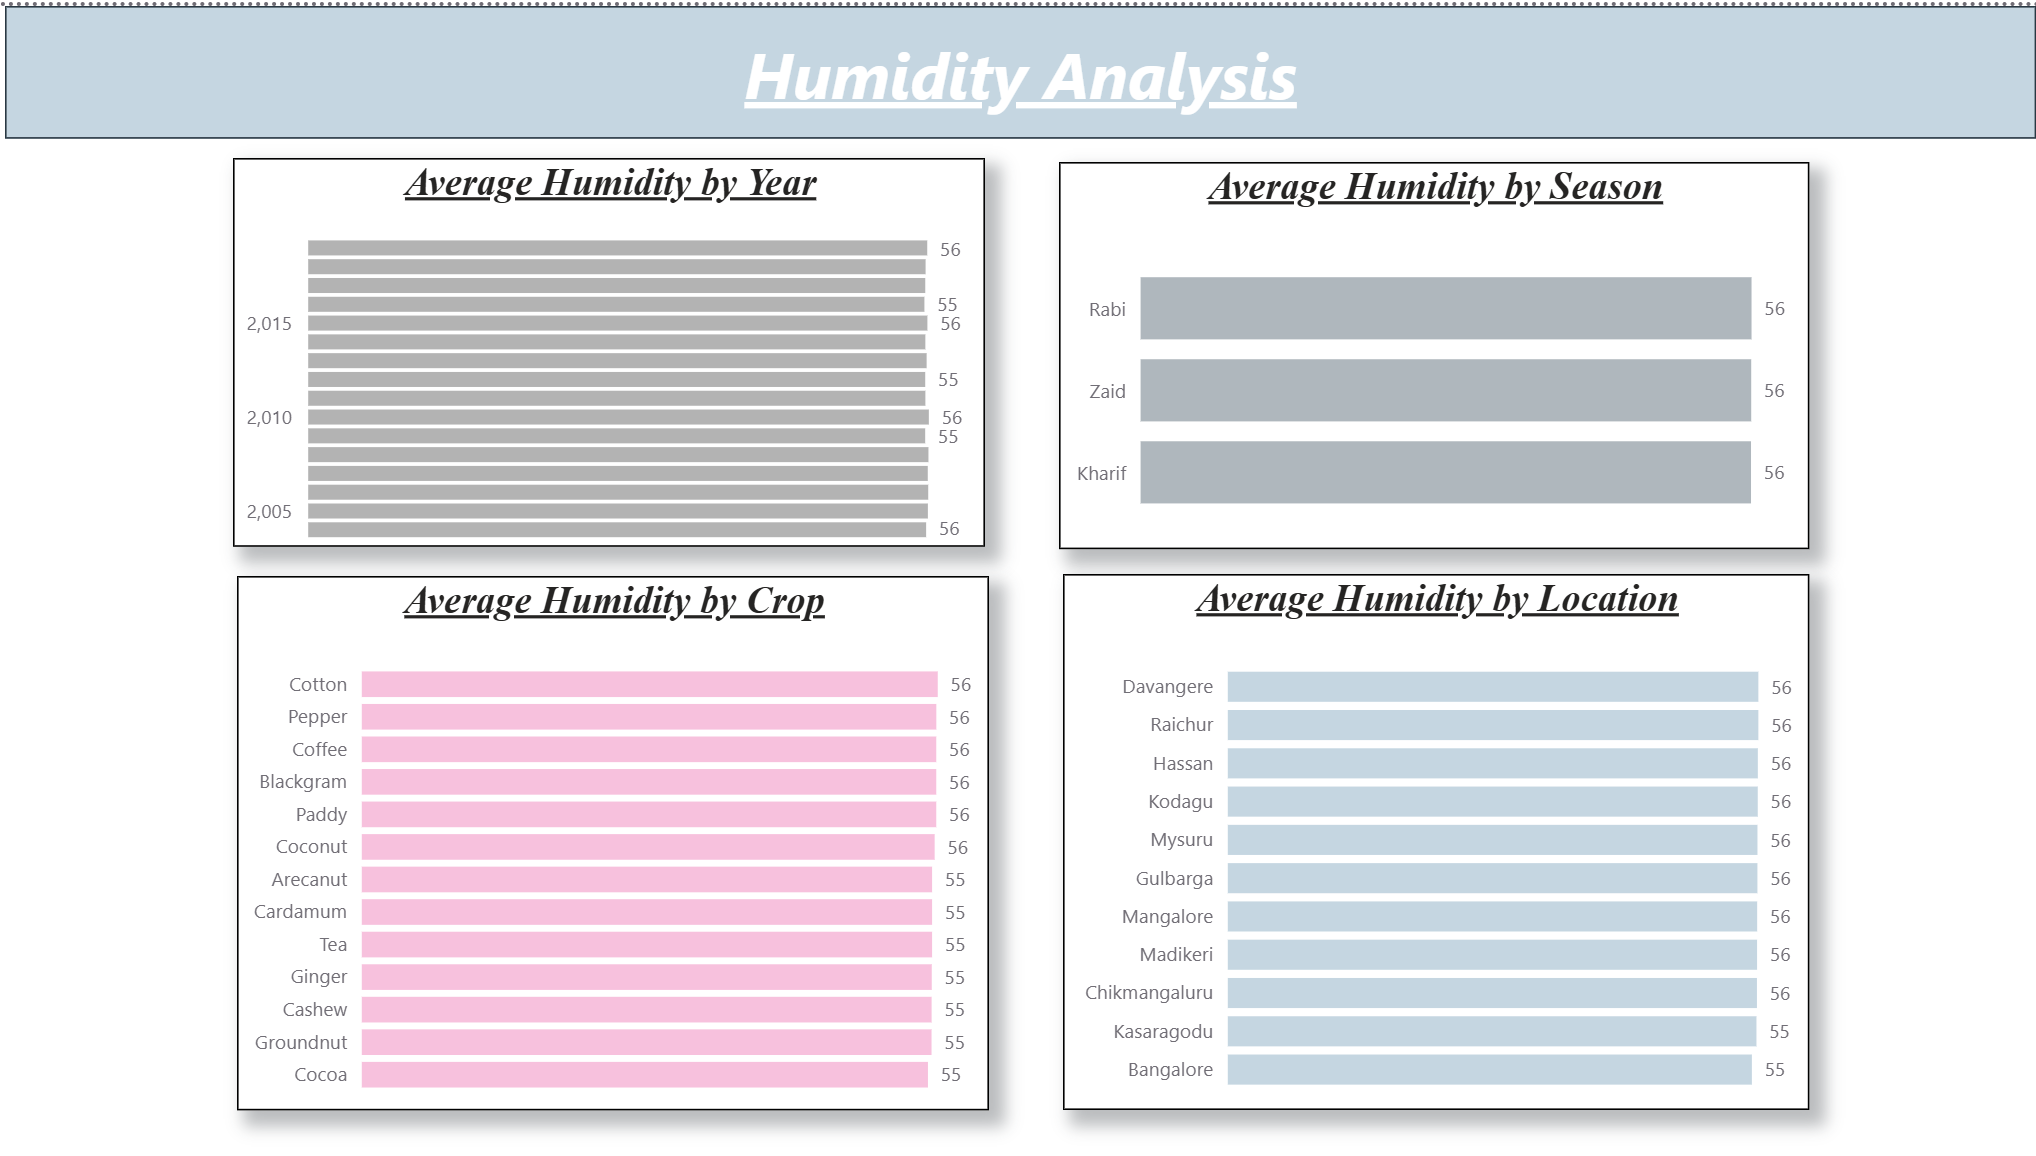

What the dashboard file says about the page in this screenshot:
{"tool":"powerbi","page":{"name":"Humidity_Analysis","canvas":[1280,720],"ordinal":2},"visuals":[{"type":"shape","box":[10.4,0,1269.5,82.9],"z":0},{"type":"barChart","title":"Average Humidity by Year","fields":{"Category":["AGRICULTURE.YEAR"],"Y":["Avg(AGRICULTURE.HUMIDITY)"]},"box":[152.5,95.6,470,243.1],"z":1000},{"type":"barChart","title":"Average Humidity by Season","fields":{"Category":["AGRICULTURE.SEASON"],"Y":["Avg(AGRICULTURE.HUMIDITY)"]},"box":[668.7,97.1,469.1,242.1],"z":2000},{"type":"barChart","title":"Average Humidity by Crop","fields":{"Category":["AGRICULTURE.CROPS"],"Y":["Avg(AGRICULTURE.HUMIDITY)"]},"box":[154.8,356,470,334.1],"z":3000},{"type":"barChart","title":"Average Humidity by Location","fields":{"Category":["AGRICULTURE.LOCATION"],"Y":["Avg(AGRICULTURE.HUMIDITY)"]},"box":[671.5,355.6,466.3,335],"z":4000}]}

Visuals, with their boxes in screenshot pixels (x1, y1, x2, y2), scaled from the page's 1280x720 canvas onto the 2036x1156 screenshot:
shape: box=[17, 0, 2035, 133]
"Average Humidity by Year" barChart: box=[243, 153, 990, 544]
"Average Humidity by Season" barChart: box=[1064, 156, 1810, 545]
"Average Humidity by Crop" barChart: box=[246, 572, 994, 1108]
"Average Humidity by Location" barChart: box=[1068, 571, 1810, 1109]
